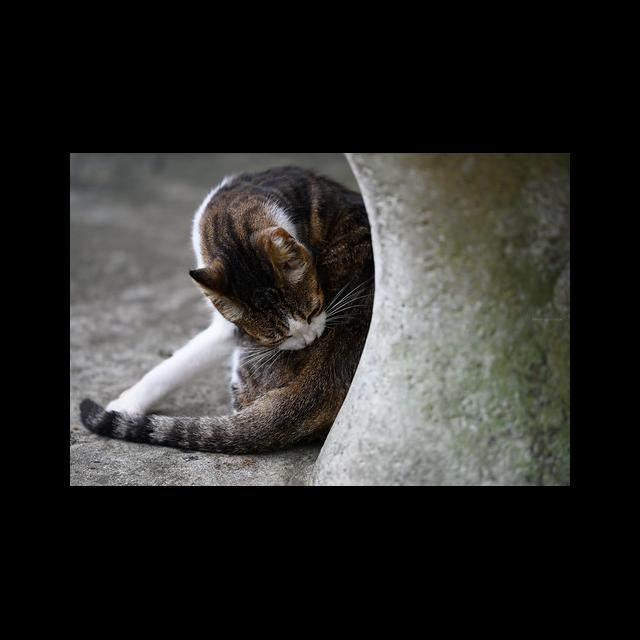animals: (80, 166, 371, 456)
